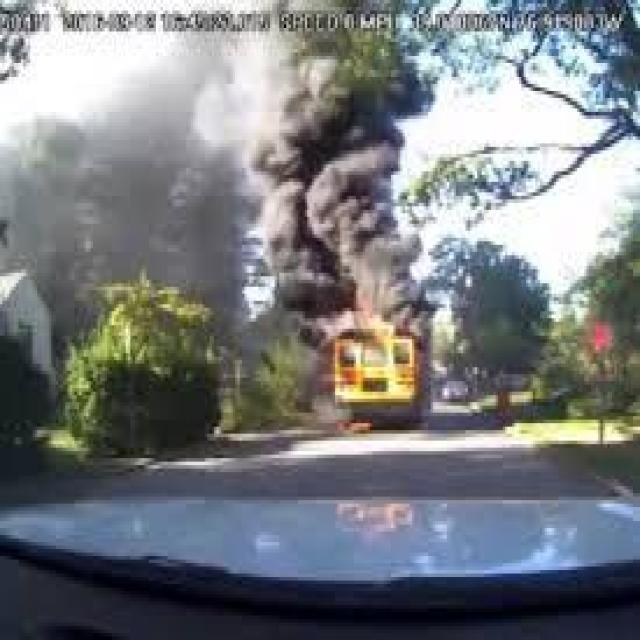smoke: (203, 42, 478, 337)
